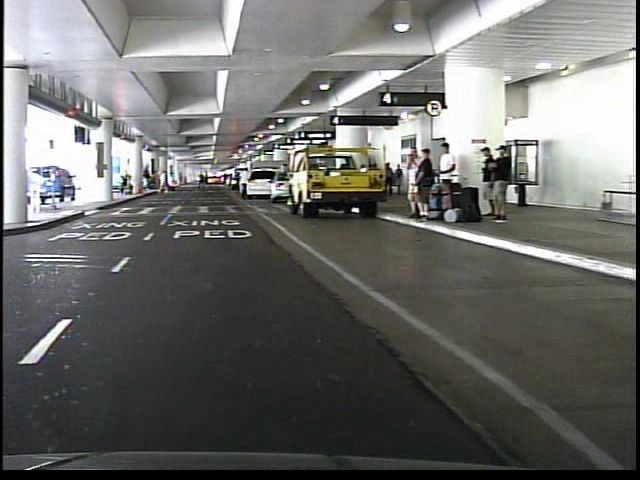person: (397, 144, 419, 217), (488, 144, 506, 224), (232, 165, 247, 201), (150, 164, 165, 198)
